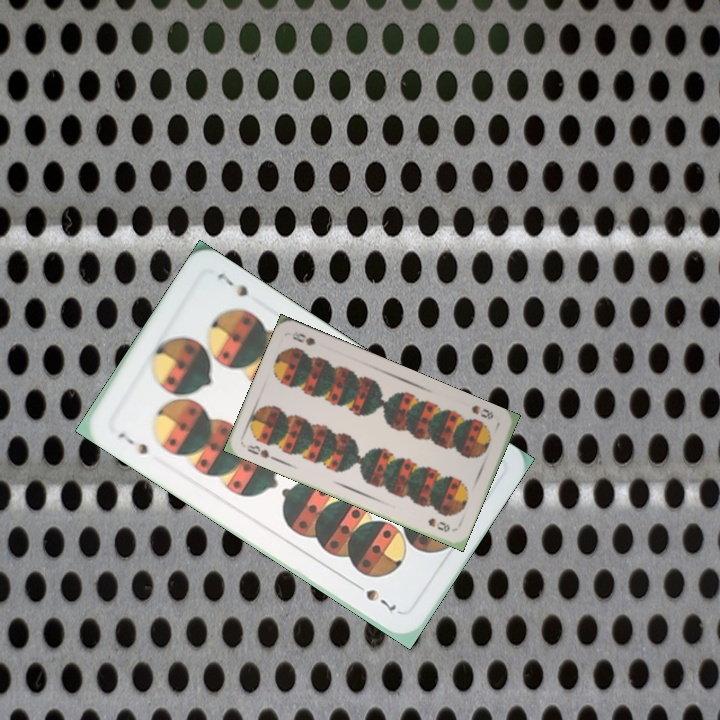S7: (114, 428, 151, 458)
S8: (242, 441, 280, 464), (467, 401, 496, 422)
